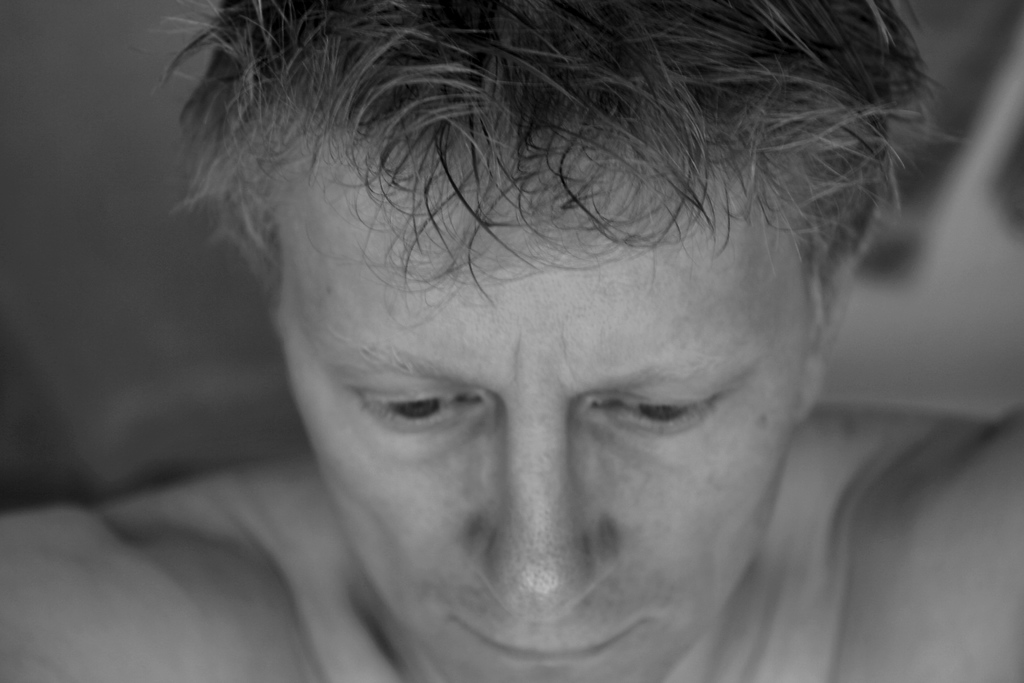face: (207, 88, 872, 683)
